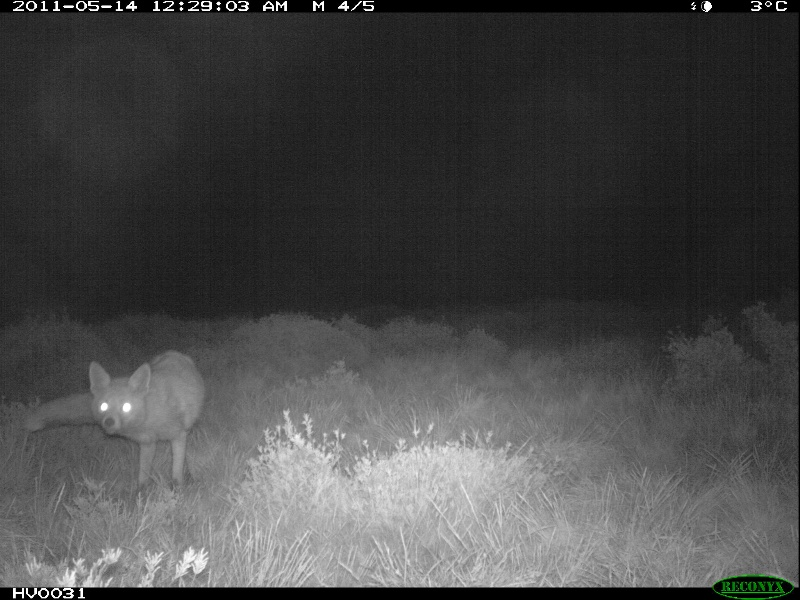fox: (11, 348, 210, 493)
